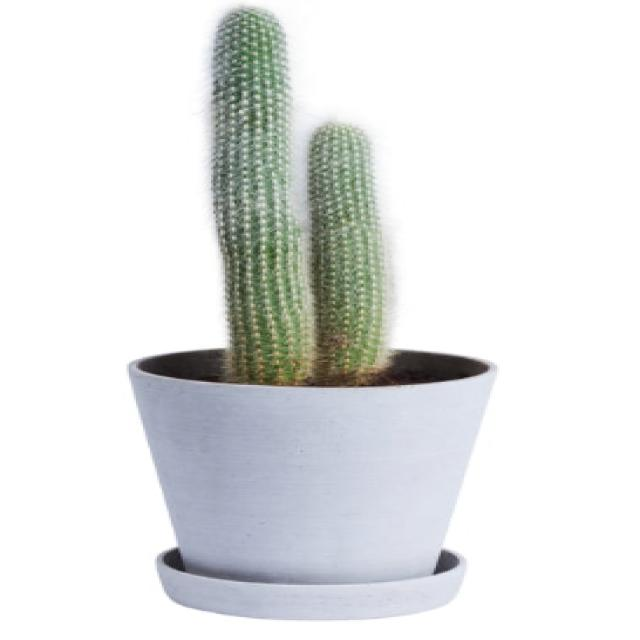Plant Pot: (113, 330, 517, 624)
